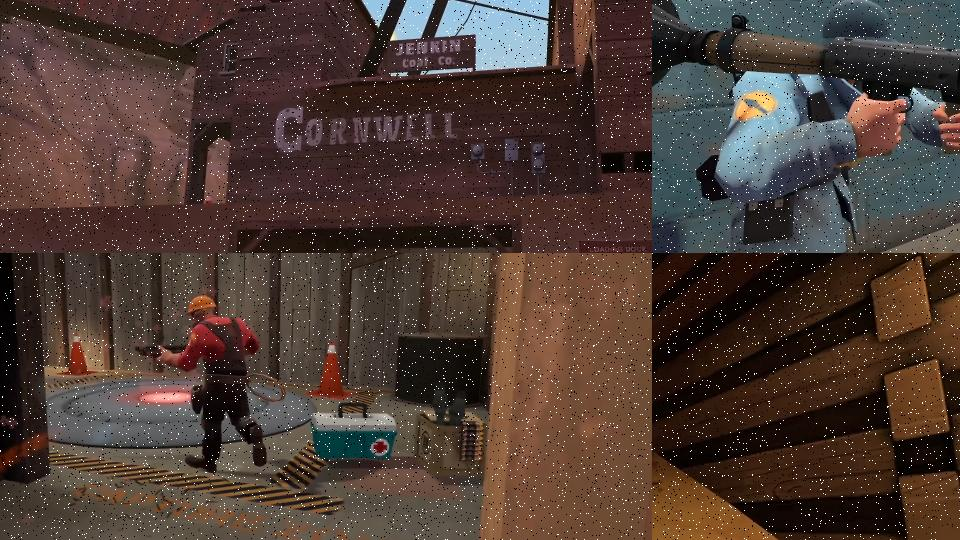Enemy: (652, 0, 960, 253), (132, 293, 270, 474)
